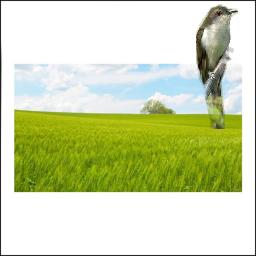Cuckoo: (196, 2, 238, 129)
